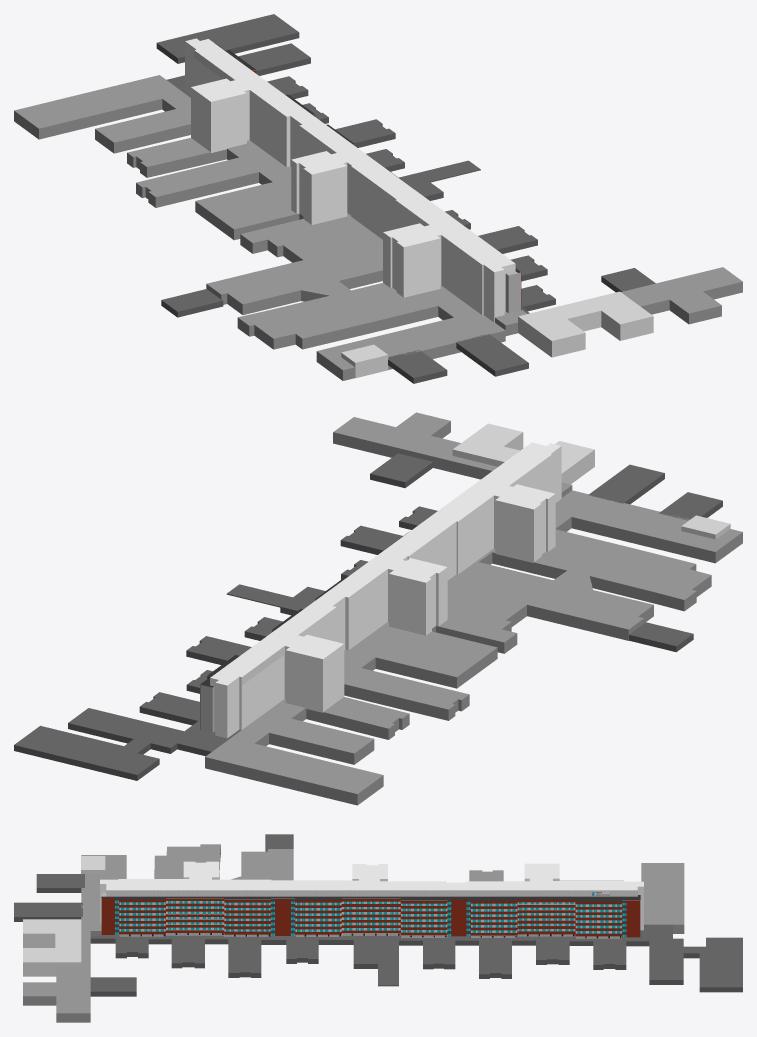
The model's file is sundsvallssjukhus.gltf.
3 views of the same model, one above another, from view 1: azimuth 30°, elevation 25°; view 2: azimuth 150°, elevation 25°; view 3: azimuth 270°, elevation 25° (orthographic). The views are drawn at different scales.
Visible parts, largest first — view 1: Cube.007, Cube.001, Cube, Cube.009, Cube.008, Cube.004, Cube.005, Cube.006, Cube.010, Cube.003, Cube.002; view 2: Cube.007, Cube.001, Cube, Cube.008, Cube.009, Cube.004, Cube.003, Cube.006, Cube.005, Cube.010, Cube.002; view 3: Cube, Cube.001, Cube.007, Cube.1550, Cube.008, Cube.009, Cube.1549, Cube.004, Cube.002, Cube.003, Cube.005, Cube.1200 (+22 smaller).
Part boxes in pixels (left/top/right/bottom): Cube.007: left=14, top=75, right=505, bottom=380; Cube.001: left=185, top=38, right=515, bottom=322; Cube: left=156, top=14, right=555, bottom=313; Cube.009: left=518, top=291, right=653, bottom=357; Cube.008: left=495, top=267, right=742, bottom=335; Cube.004: left=456, top=334, right=528, bottom=376; Cube.005: left=388, top=350, right=447, bottom=383; Cube.006: left=161, top=289, right=223, bottom=317; Cube.010: left=341, top=344, right=388, bottom=378; Cube.003: left=601, top=268, right=655, bottom=292; Cube.002: left=505, top=271, right=520, bottom=313; Cube.007: left=205, top=490, right=742, bottom=805; Cube.001: left=210, top=442, right=561, bottom=738; Cube: left=14, top=506, right=437, bottom=780; Cube.008: left=333, top=412, right=572, bottom=497; Cube.009: left=452, top=423, right=594, bottom=484; Cube.004: left=588, top=464, right=664, bottom=504; Cube.003: left=370, top=453, right=432, bottom=487; Cube.006: left=629, top=622, right=693, bottom=652; Cube.005: left=659, top=492, right=722, bottom=520; Cube.010: left=681, top=515, right=730, bottom=539; Cube.002: left=200, top=685, right=214, bottom=732; Cube: left=90, top=924, right=742, bottom=992; Cube.001: left=100, top=861, right=643, bottom=930; Cube.007: left=81, top=844, right=684, bottom=933; Cube.1550: left=106, top=890, right=637, bottom=896; Cube.008: left=23, top=919, right=101, bottom=1022; Cube.009: left=23, top=919, right=81, bottom=976; Cube.1549: left=101, top=895, right=640, bottom=901; Cube.004: left=14, top=902, right=82, bottom=921; Cube.002: left=101, top=892, right=619, bottom=938; Cube.003: left=90, top=977, right=136, bottom=996; Cube.005: left=36, top=874, right=84, bottom=892; Cube.1200: left=451, top=899, right=466, bottom=936.
Size of the model in its own units: 309 by 40.76 by 507.
Materials: 16 (4 with a texture image).
